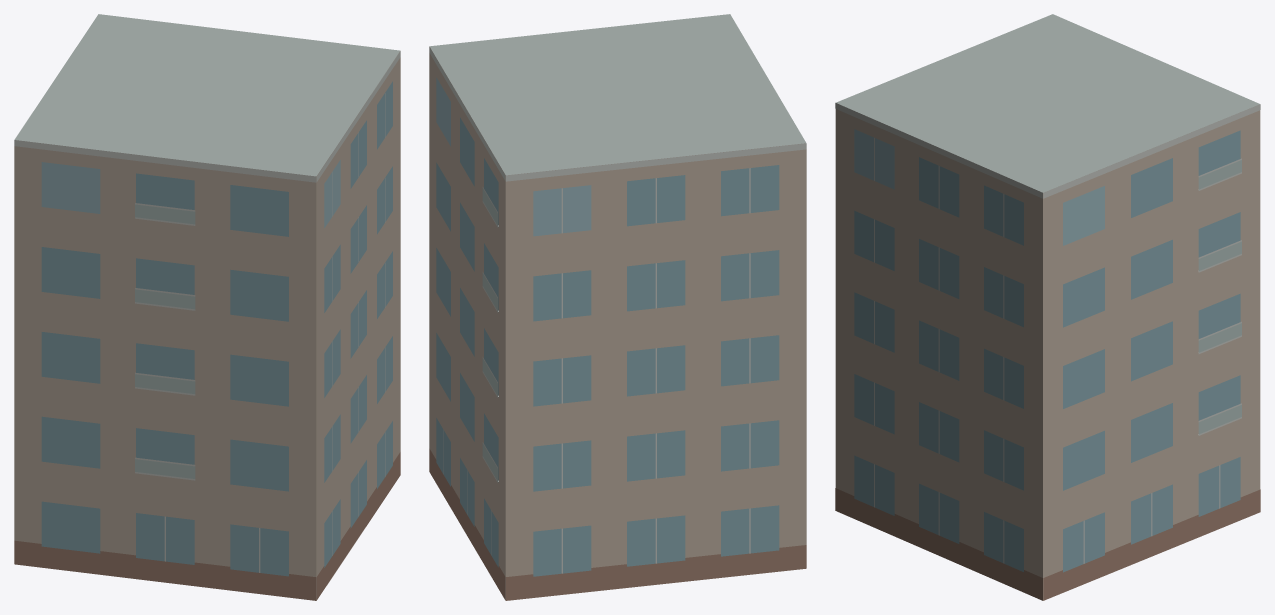
File: survey-upis-32854581.glb
3 views of the same model, side by side, from view 1: azimuth 30°, elevation 25°; view 2: azimuth 150°, elevation 25°; view 3: azimuth 270°, elevation 25° (orthographic). The views are drawn at different scales.
Visible parts, largest first — view 1: survey-upis-32854581.tmp; view 2: survey-upis-32854581.tmp; view 3: survey-upis-32854581.tmp.
Part boxes in pixels (x1,y1,x2,y2): survey-upis-32854581.tmp: (14, 14, 400, 600); survey-upis-32854581.tmp: (429, 14, 806, 600); survey-upis-32854581.tmp: (835, 14, 1260, 600).
Size of the model in its own units: 15.61 by 16.6 by 15.67.
